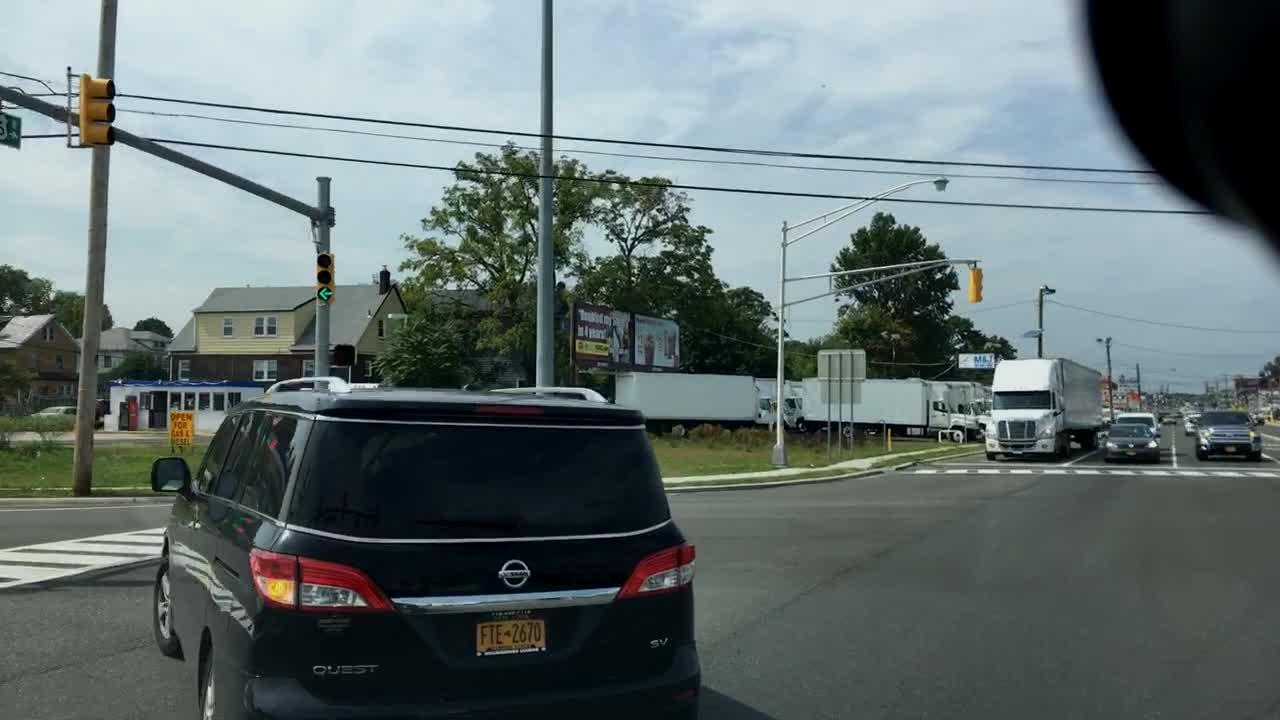Nissan: (489, 557, 539, 593)
